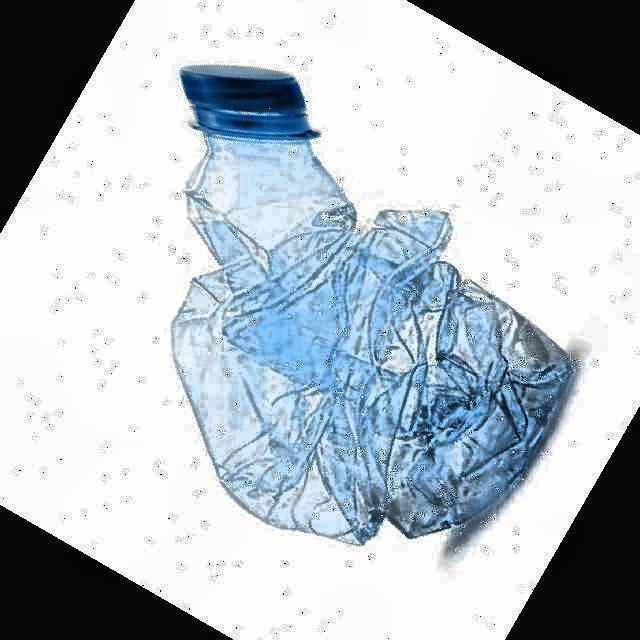plastic: (171, 68, 572, 543)
